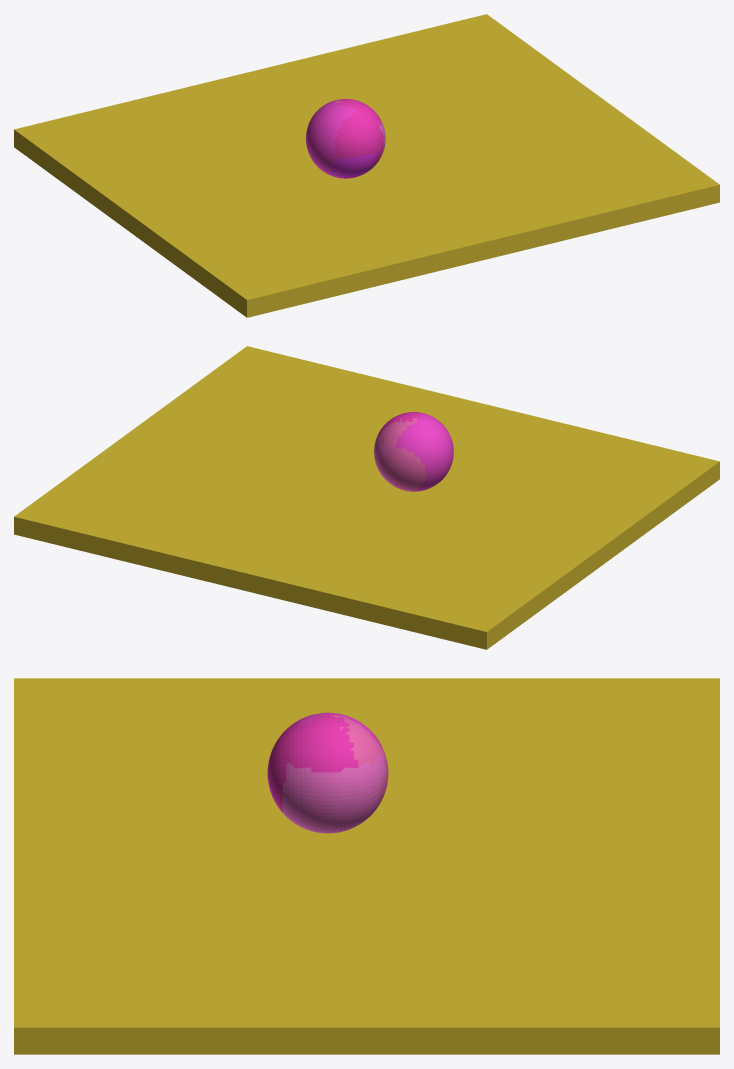
Rendered from balle.glb.
3 renders of one model, top to bottom at view 1: azimuth 30°, elevation 25°; view 2: azimuth 150°, elevation 25°; view 3: azimuth 270°, elevation 25°, orthographic. The views are drawn at different scales.
Visible parts, largest first — view 1: defaultobject; view 2: defaultobject; view 3: defaultobject.
Part boxes in pixels (bbox=[...]): defaultobject: bbox=[14, 14, 719, 317]; defaultobject: bbox=[14, 346, 719, 649]; defaultobject: bbox=[14, 678, 719, 1054].
Bounding box in the file's own units: 0.445 × 0.081 × 0.38.
